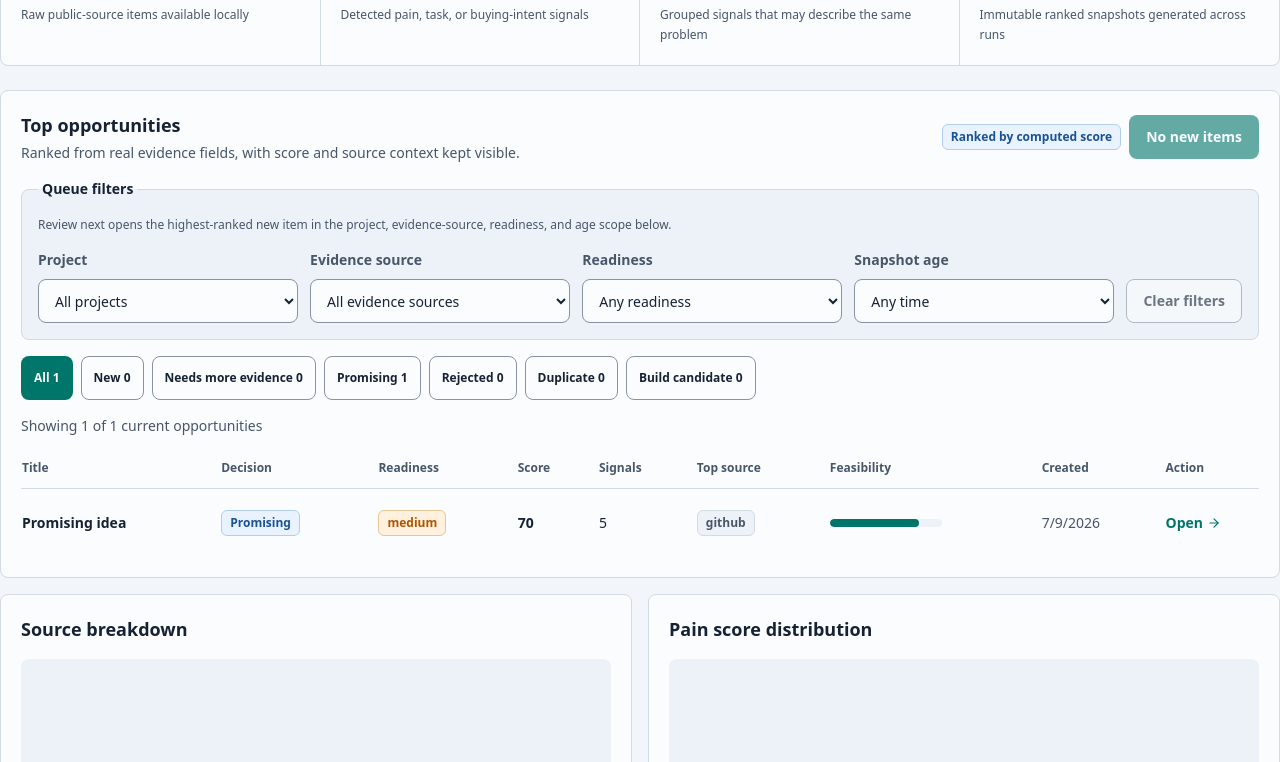
it: Dashboard › does not report an empty queue when the server filter fails
(page scrolled)
Expected: the link "Promising idea" is shown, [22, 513, 126, 532]
What coordinates should you click on to do the following:
click the button "Promising 1"
I would click on:
 (372, 378)
Its box is [324, 356, 421, 400].
(page scrolled)
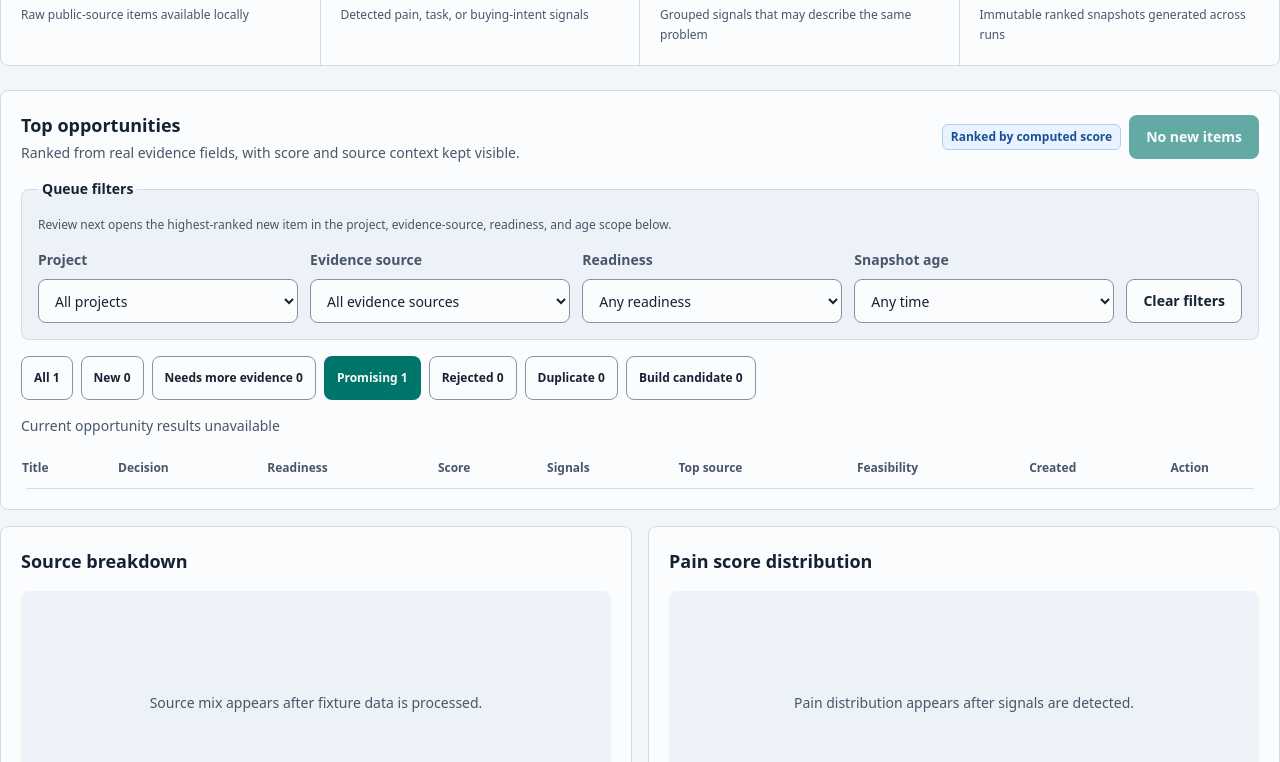
Expected: the text "Current opportunity results unavailable" is shown, [21, 416, 280, 435]
What coordinates should you click on to do the following:
click the button "All 1"
I would click on:
 (47, 378)
Its box is [21, 356, 73, 400].
(page scrolled)
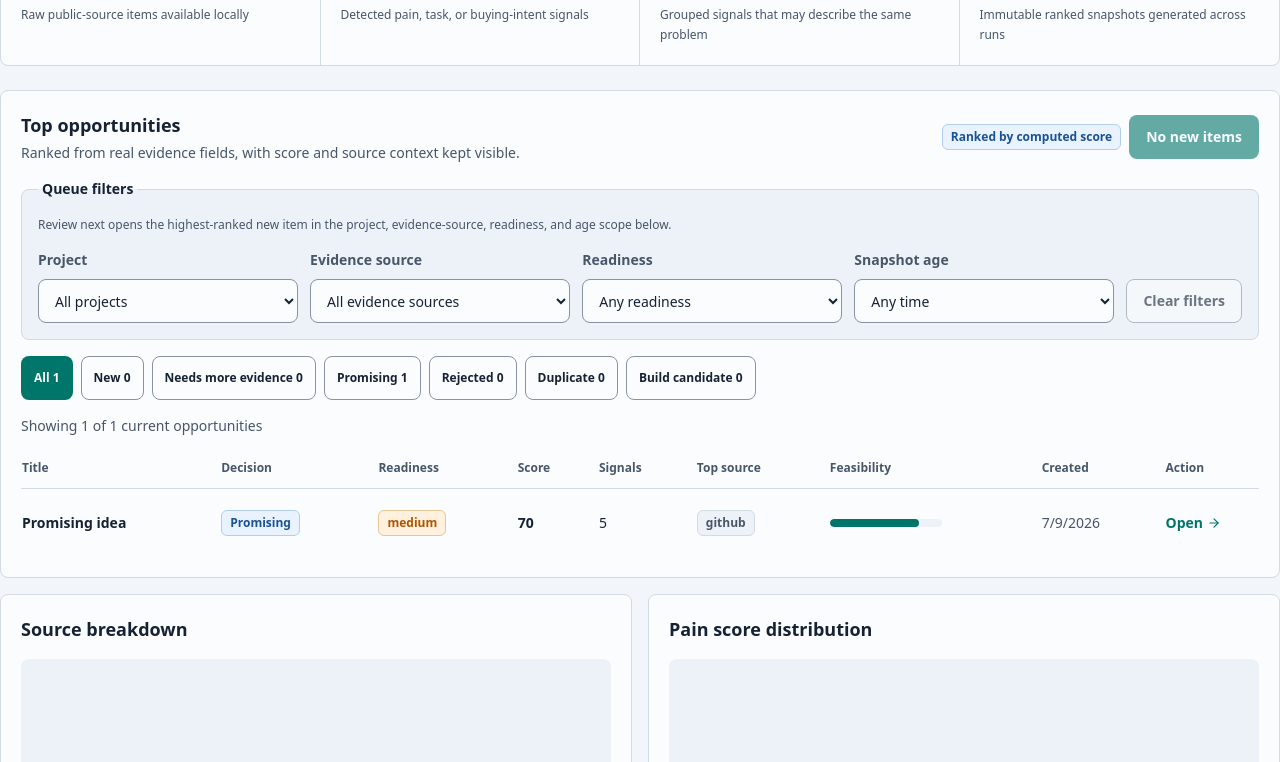
Expected: the link "Promising idea" is shown, [22, 513, 126, 532]
